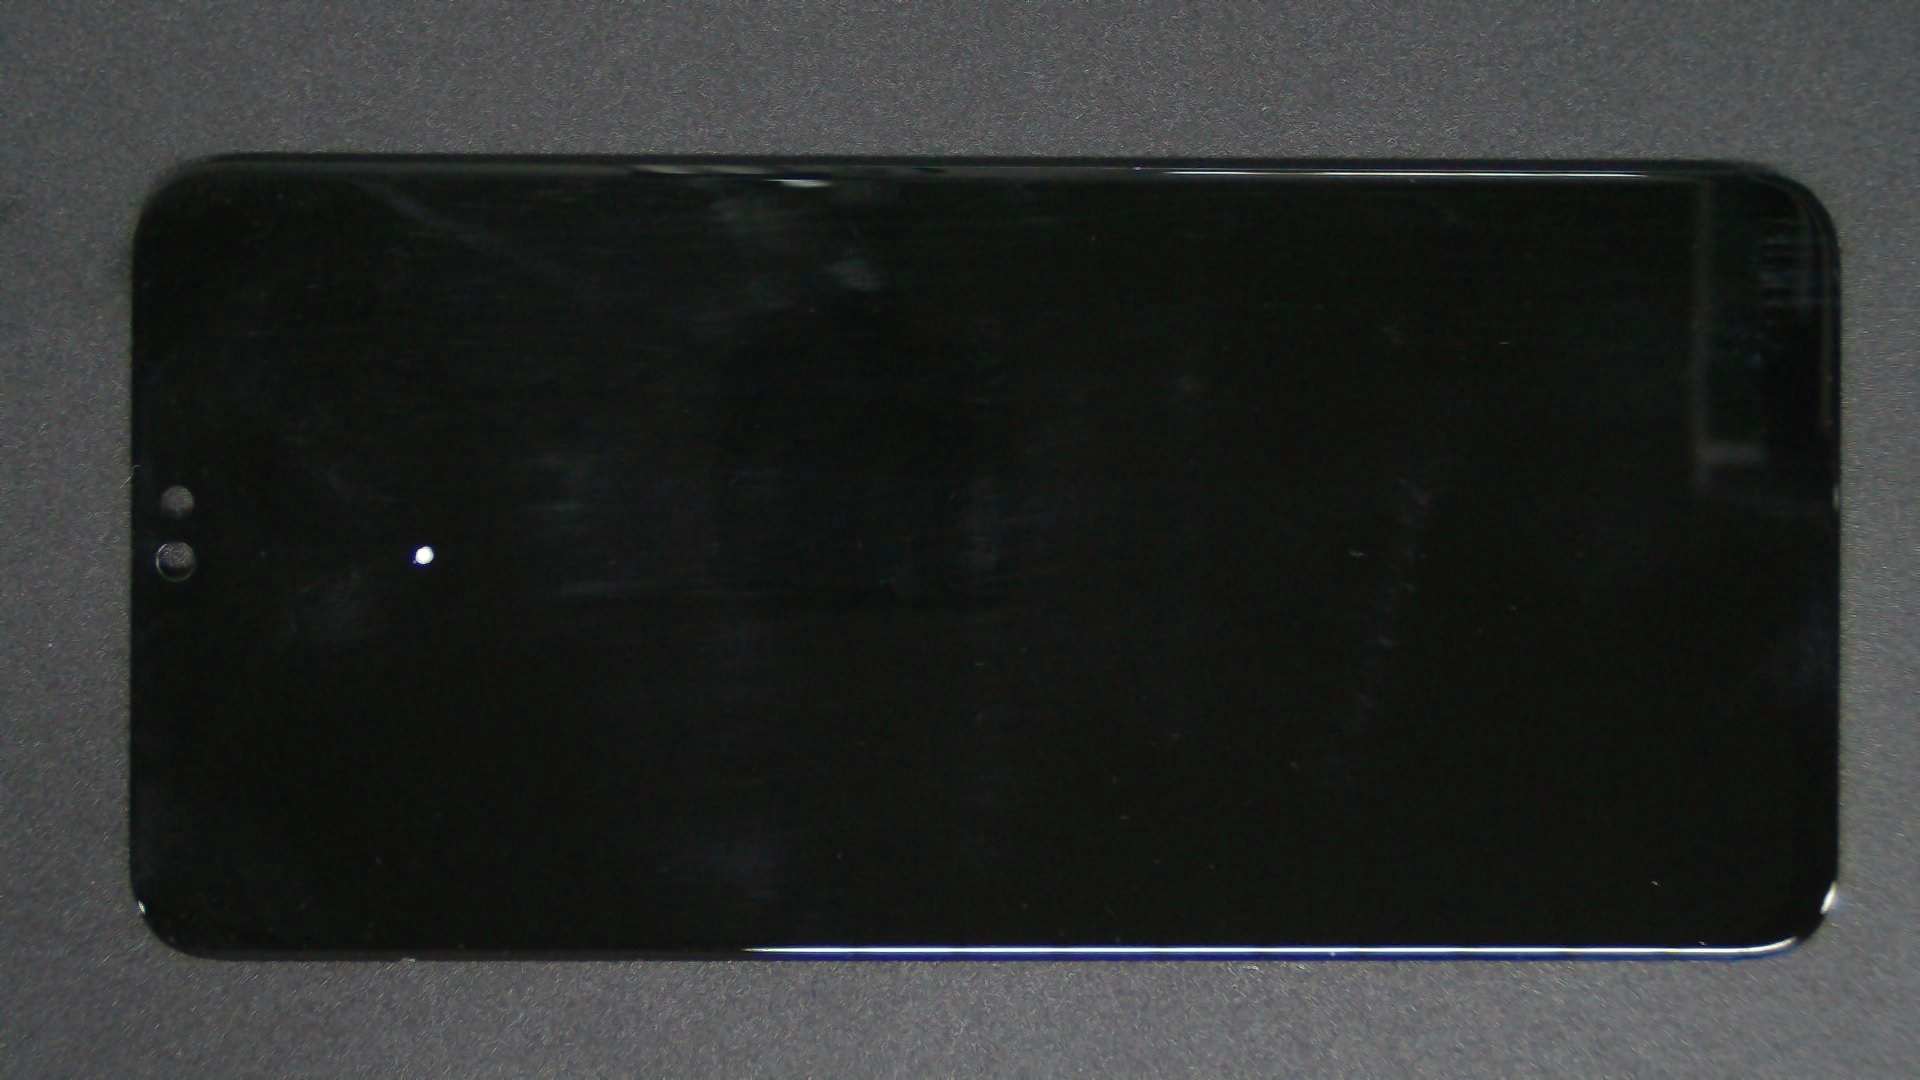oil: (215, 272, 641, 818)
